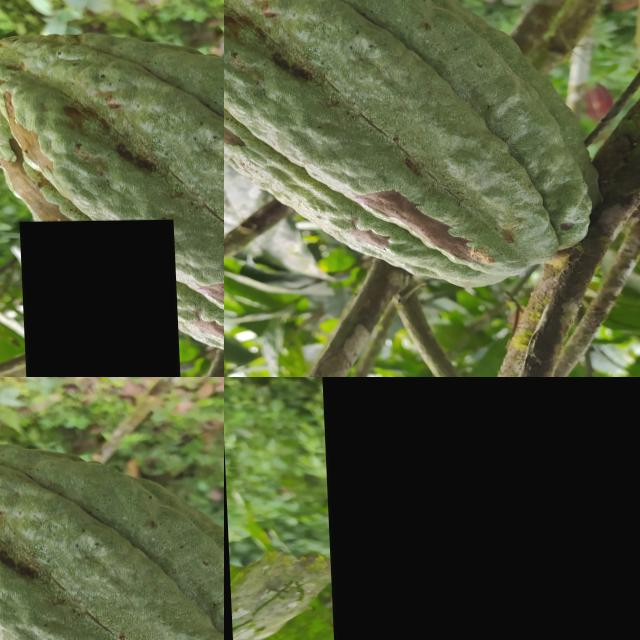Sana: (319, 377, 640, 640), (17, 220, 179, 377), (470, 158, 551, 283), (593, 73, 640, 158), (526, 190, 571, 263)
